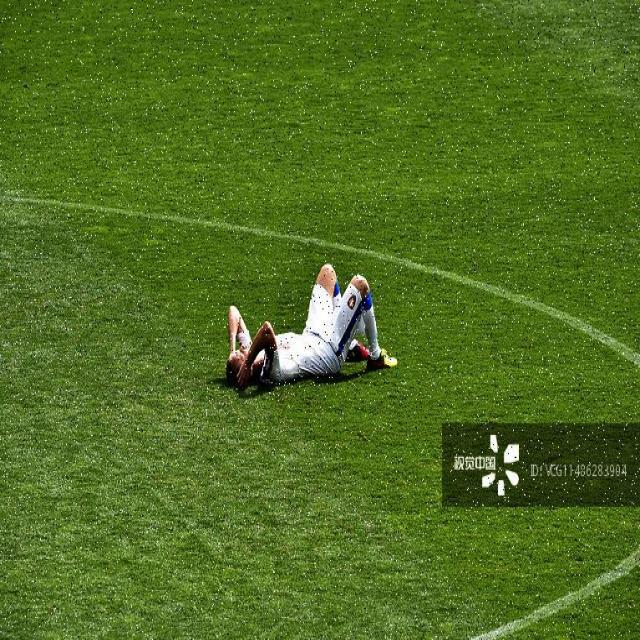fall: (222, 263, 392, 392)
